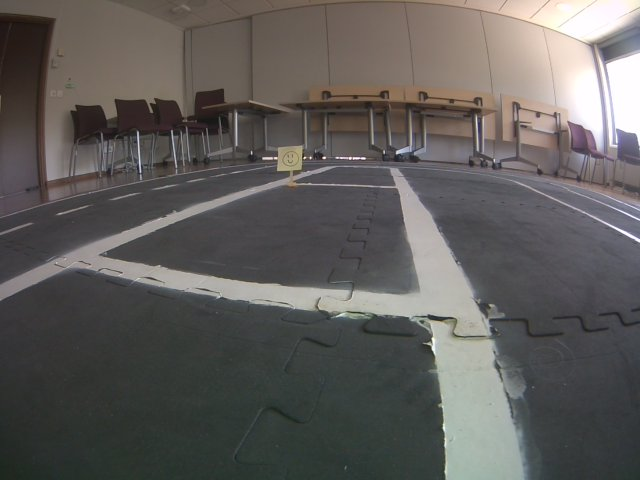Smiley: (276, 145, 303, 173)
